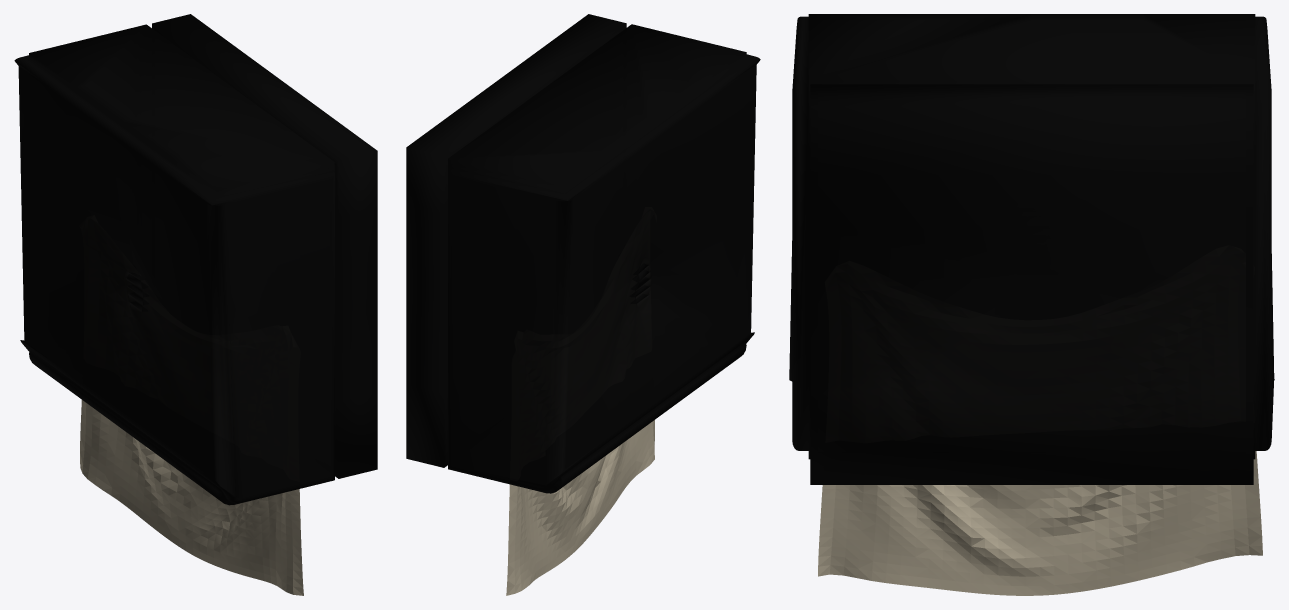
The model's file is tissuebox.glb.
3 views of the same model, side by side, from view 1: azimuth 30°, elevation 25°; view 2: azimuth 150°, elevation 25°; view 3: azimuth 270°, elevation 25° (orthographic). The views are drawn at different scales.
Parts seen in each view (by area): view 1: Cube.029, Sketchfab Model.028; view 2: Cube.029, Sketchfab Model.028; view 3: Cube.029, Sketchfab Model.028.
Part boxes in pixels (bbox=[...]): Cube.029: bbox=[14, 14, 377, 505]; Sketchfab Model.028: bbox=[80, 400, 303, 595]; Cube.029: bbox=[406, 14, 760, 493]; Sketchfab Model.028: bbox=[506, 420, 654, 595]; Cube.029: bbox=[789, 14, 1274, 484]; Sketchfab Model.028: bbox=[818, 451, 1262, 595].
Size of the model in its own units: 0.4059 by 1.03 by 0.8399.
